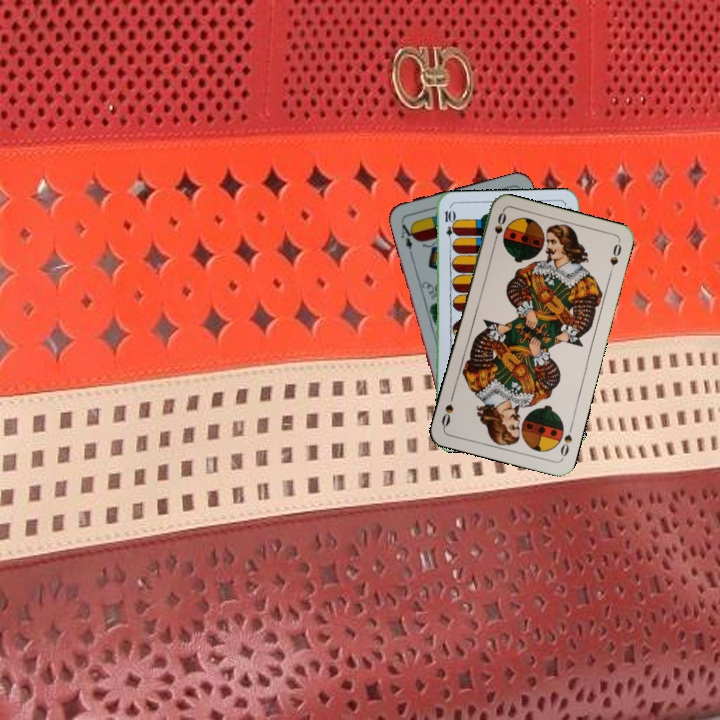E10: (441, 206, 455, 247)
EA: (397, 217, 417, 252)
SO: (489, 208, 509, 248), (556, 421, 575, 461)
